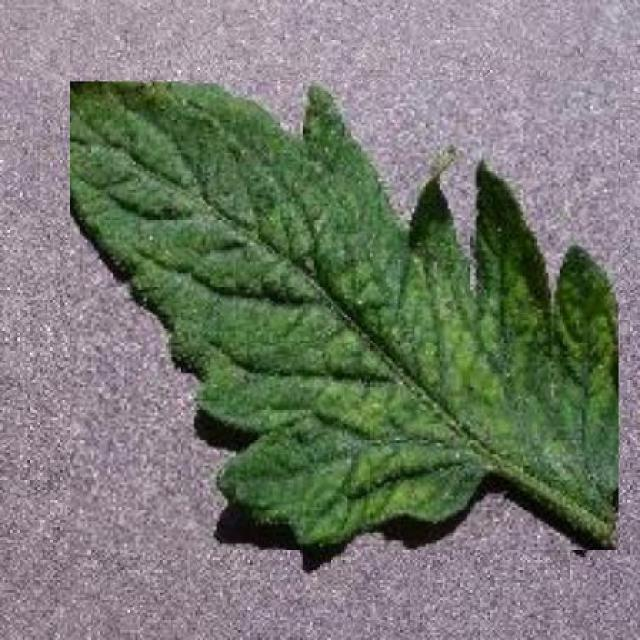Mosaic Virus: (70, 81, 619, 550)
